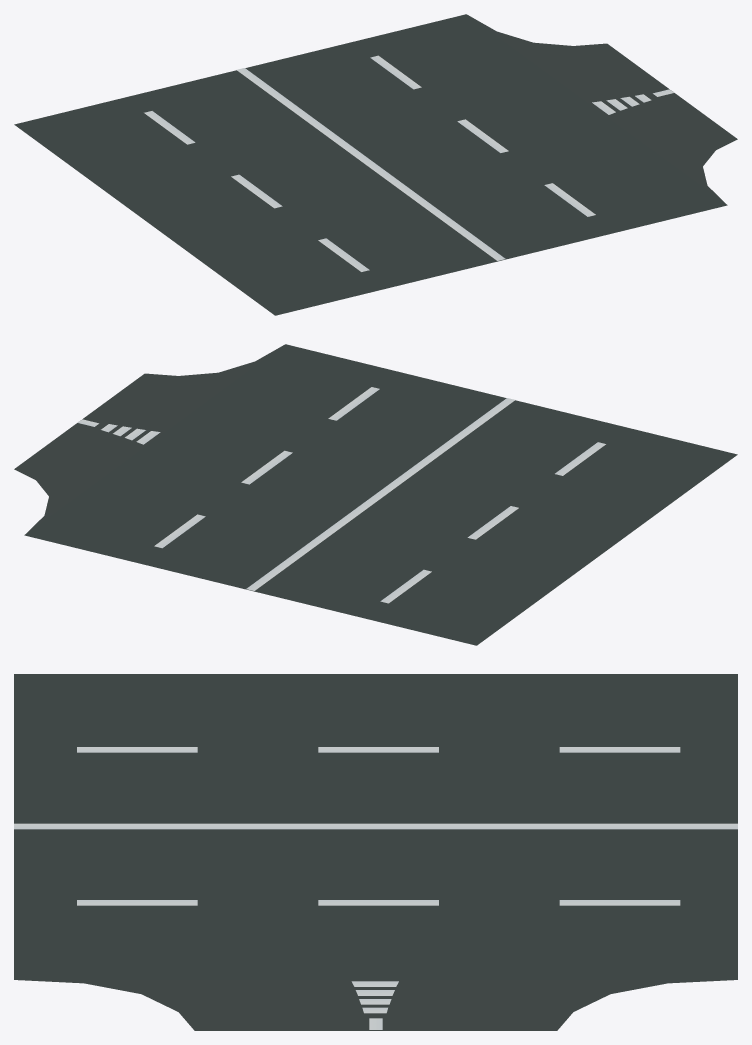
Rendered from Road_2_203.fbx.
The picture shows the model from 3 angles, top to bottom: view 1: azimuth 30°, elevation 25°; view 2: azimuth 150°, elevation 25°; view 3: azimuth 270°, elevation 25°; orthographic projection. The views are drawn at different scales.
Visible parts, largest first — view 1: Road_2_203; view 2: Road_2_203; view 3: Road_2_203.
Part boxes in pixels (box(x1,y1,x2,y2)): Road_2_203: box(14, 14, 737, 315); Road_2_203: box(14, 344, 737, 645); Road_2_203: box(14, 674, 737, 1030).
Size of the model in its own units: 2100 by 1.66 by 1800.
